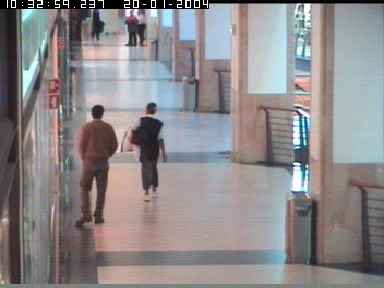person: (75, 104, 117, 226), (120, 102, 167, 202), (124, 10, 138, 46), (137, 11, 147, 46)
